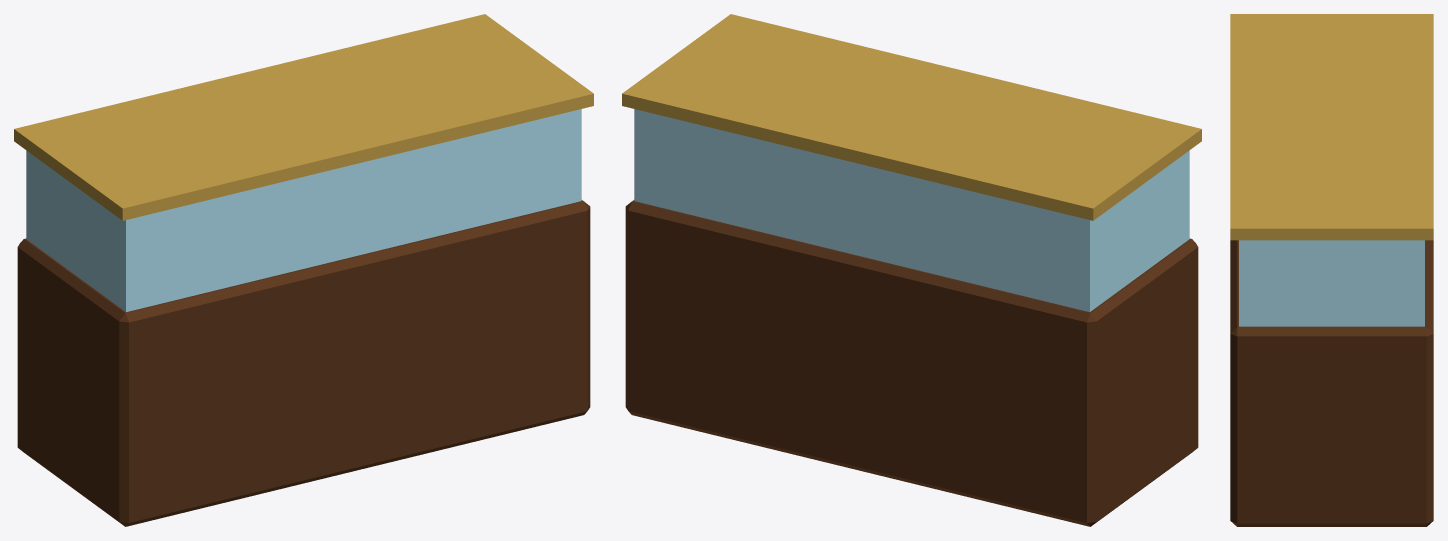
Rendered from JewelryCase.fbx.
3 renders of one model, left to right at view 1: azimuth 30°, elevation 25°; view 2: azimuth 150°, elevation 25°; view 3: azimuth 270°, elevation 25°, orthographic. The views are drawn at different scales.
Visible parts, largest first — view 1: JewelryCase; view 2: JewelryCase; view 3: JewelryCase.
Boxes of the visible parts, left/top/right/bottom form: JewelryCase: left=14, top=14, right=593, bottom=526; JewelryCase: left=622, top=14, right=1201, bottom=526; JewelryCase: left=1230, top=14, right=1433, bottom=526.
Bounding box in the file's own units: 6 × 3.92 × 2.4.
1 material, 1 textured.
